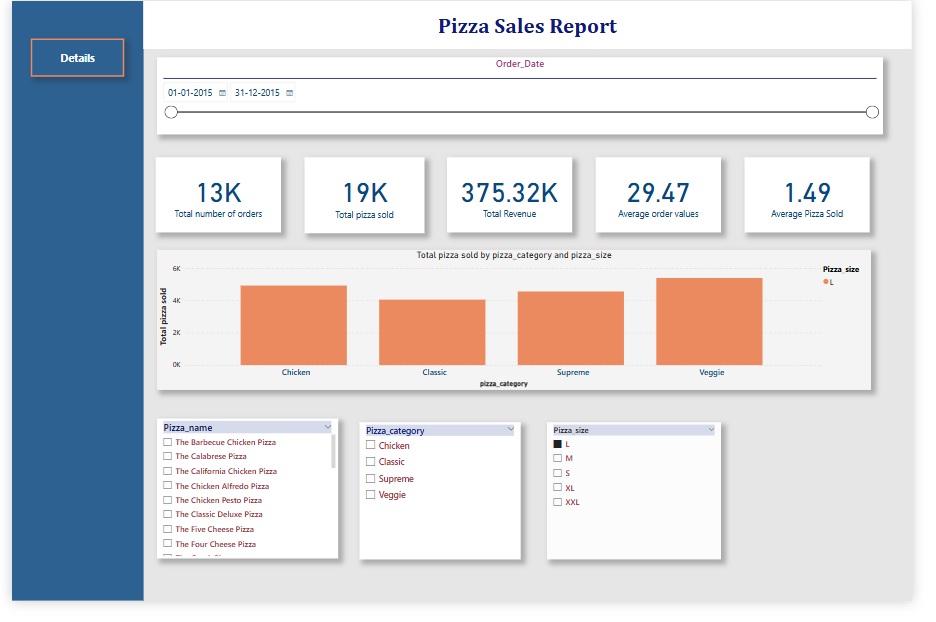

Layout of this report page (visuals, bound fields, positions):
{"tool":"powerbi","page":{"name":"Home","canvas":[1800,1200],"ordinal":0},"visuals":[{"type":"card","fields":{"Values":["pizza_sales.Total Revenue"]},"box":[871.9,311.7,250,150],"z":0,"group":"g1"},{"type":"group","id":"g1","title":"Group 1","box":[288.3,311.7,1426.7,151.7],"z":0},{"type":"shape","box":[0,0,263.3,1199.2],"z":1000},{"type":"card","fields":{"Values":["pizza_sales.Total pizza sold"]},"box":[585.1,311.7,240,151.7],"z":1000,"group":"g1"},{"type":"card","fields":{"Values":["pizza_sales.Total number of orders"]},"box":[288.3,311.7,250,150],"z":2000,"group":"g1"},{"type":"slicer","fields":{"Values":["pizza_sales.pizza_name"]},"box":[290,836,362,280],"z":2000},{"type":"card","fields":{"Values":["pizza_sales.Average order values"]},"box":[1168.7,311.7,250,150],"z":3000,"group":"g1"},{"type":"slicer","fields":{"Values":["pizza_sales.pizza_category"]},"box":[696,842,322,274],"z":3000},{"type":"card","fields":{"Values":["pizza_sales.Average Pizza Sold"]},"box":[1465.5,311.7,250,150],"z":4000,"group":"g1"},{"type":"slicer","fields":{"Values":["pizza_sales.pizza_size"]},"box":[1070,842,348,274],"z":4000},{"type":"actionButton","box":[38.2,74.4,187,76.4],"z":6000},{"type":"textbox","box":[263.3,0,1536.7,95.7],"z":7000},{"type":"slicer","title":"Order_Date","fields":{"Values":["pizza_sales.order_date"]},"box":[290,112,1452,154],"z":8000},{"type":"clusteredColumnChart","fields":{"Category":["pizza_sales.pizza_category"],"Y":["pizza_sales.Total pizza sold"],"Series":["pizza_sales.pizza_size"]},"box":[290,496.7,1428.3,280],"z":9000}]}

Visuals, with their boxes in screenshot pixels (x1, y1, x2, y2), scaled from the page's 1800x1200 canvas onto the 936x622 screenshot:
card - pizza_sales.Total Revenue: 453,162,583,239
"Group 1" group: 150,162,892,240
shape: 0,0,137,621
card - pizza_sales.Total pizza sold: 304,162,429,240
card - pizza_sales.Total number of orders: 150,162,280,239
slicer - pizza_sales.pizza_name: 151,433,339,578
card - pizza_sales.Average order values: 608,162,738,239
slicer - pizza_sales.pizza_category: 362,436,529,578
card - pizza_sales.Average Pizza Sold: 762,162,892,239
slicer - pizza_sales.pizza_size: 556,436,737,578
actionButton: 20,39,117,78
textbox: 137,0,935,50
"Order_Date" slicer: 151,58,906,138
clusteredColumnChart - pizza_sales.pizza_category x pizza_sales.Total pizza sold: 151,257,894,403
